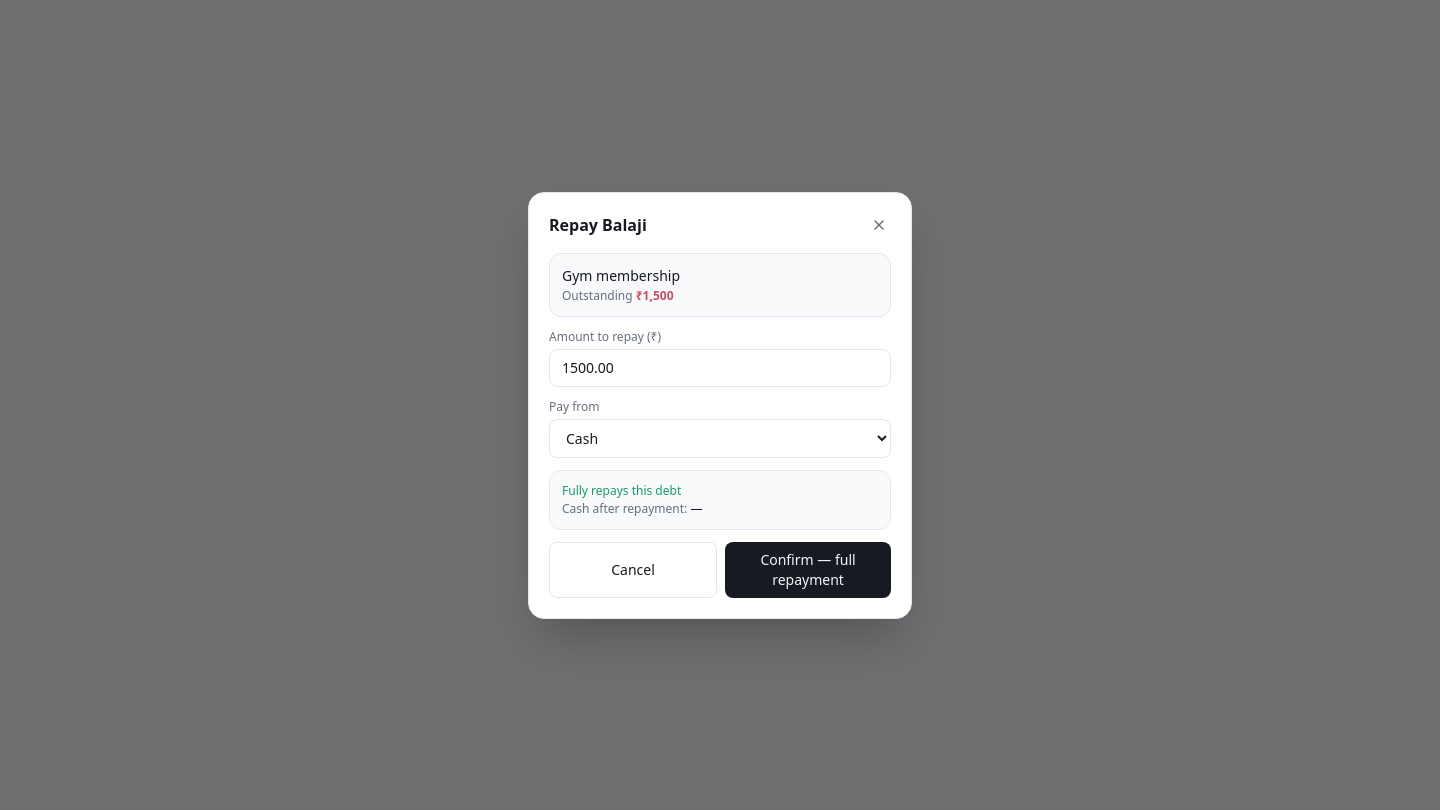
Test: RepayDebtModal › warns when the selected wallet balance is too low and blocks submit
In the field labelled "Amount to repay (₹)": (720, 368) [549,348,891,386], type "1200"
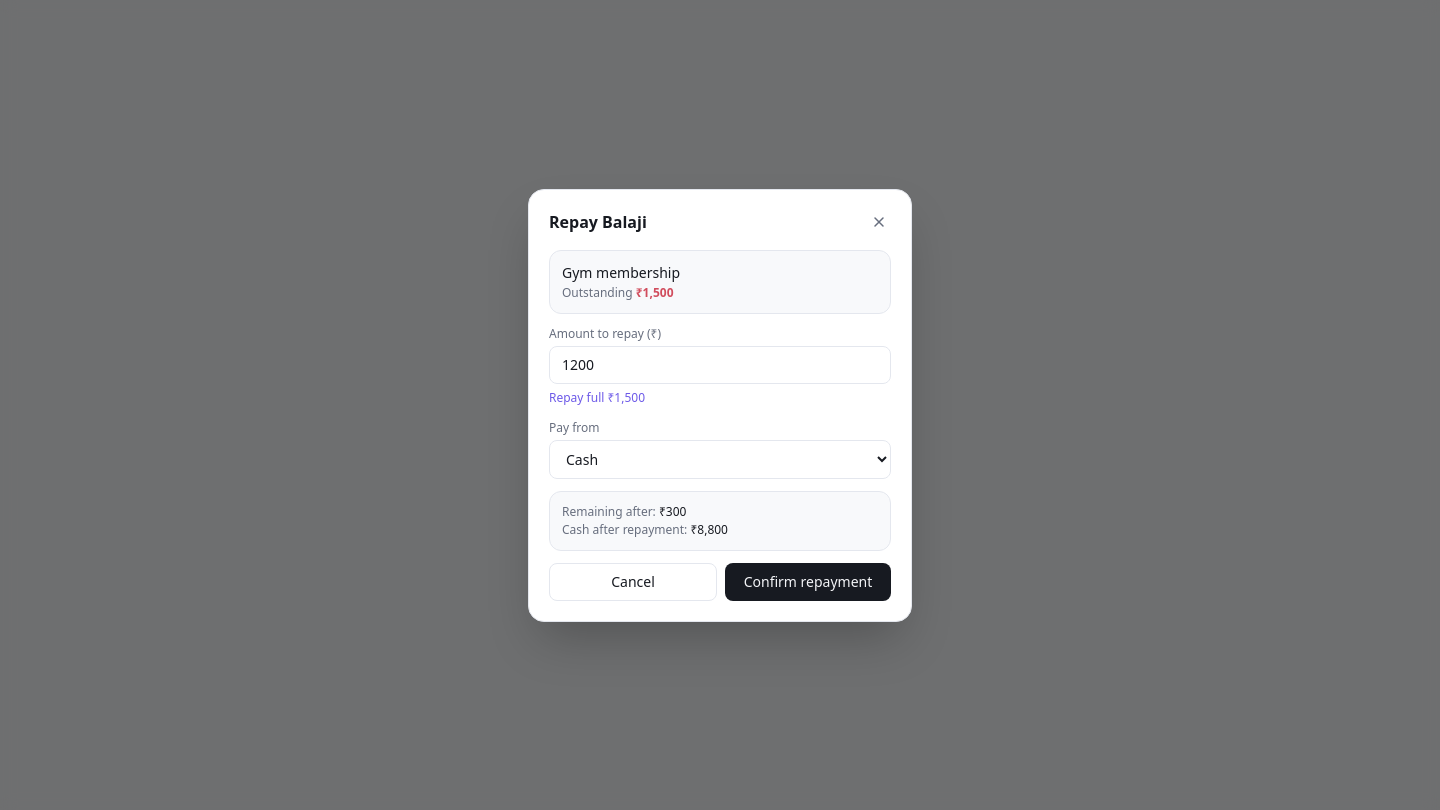
Select "PhonePe" in the dropdown labelled "Pay from": (720, 459) [549,440,891,478]
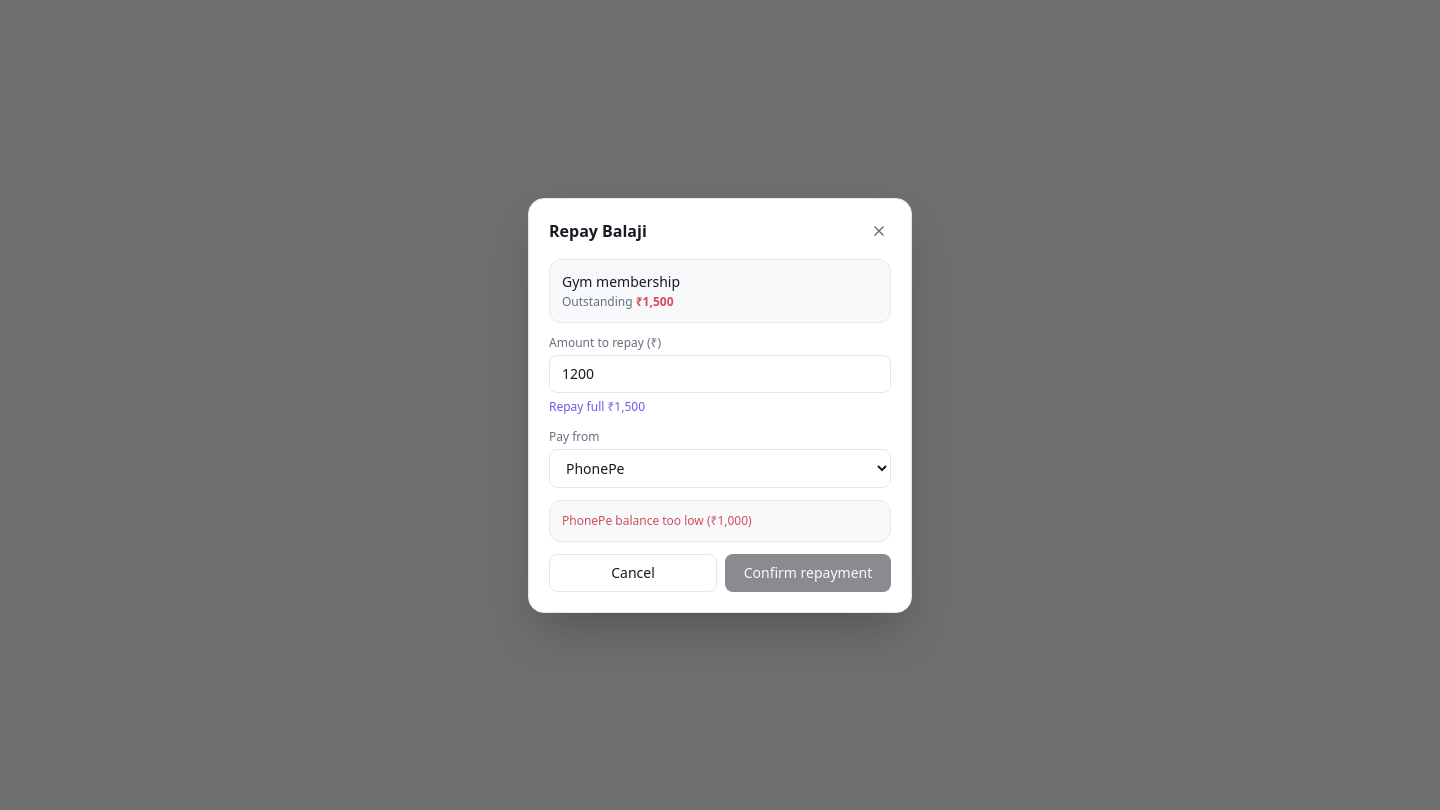
Now the text "PhonePe balance too low (₹1,000)" is shown, box [562,512,752,528]
Now the button "Confirm repayment" is disabled, box [725,554,891,592]
